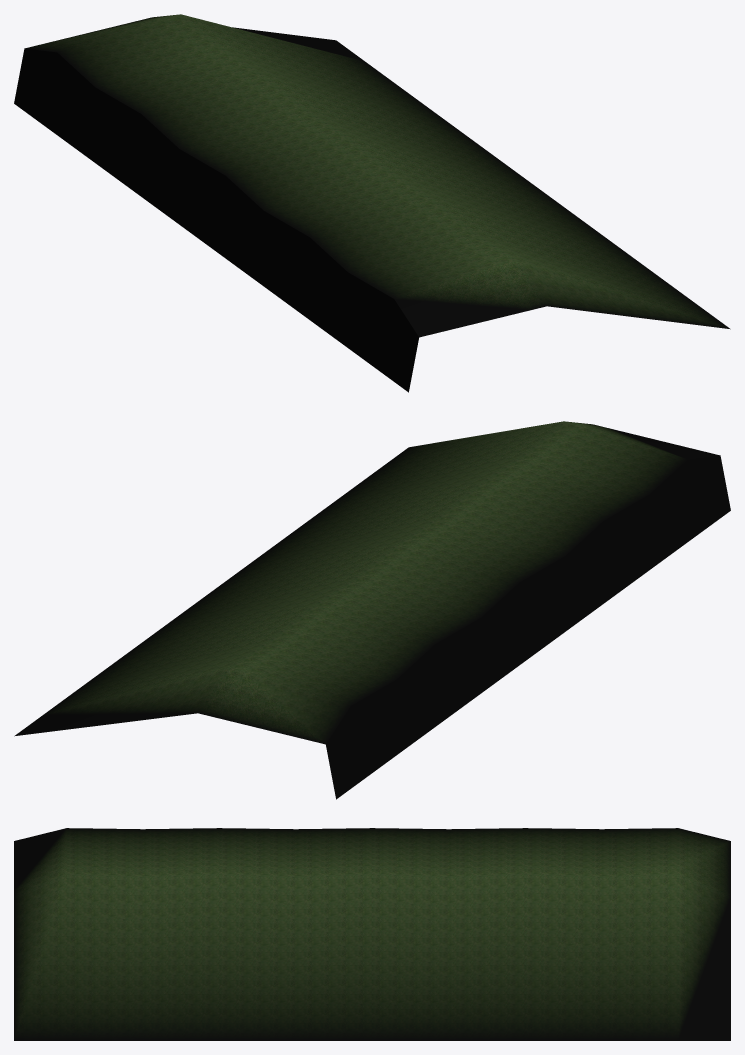
File: SIBA_DOTE_L.glb
3 views of the same model, one above another, from view 1: azimuth 30°, elevation 25°; view 2: azimuth 150°, elevation 25°; view 3: azimuth 270°, elevation 25° (orthographic). The views are drawn at different scales.
Parts seen in each view (by area): view 1: shiba_l; view 2: shiba_l; view 3: shiba_l.
Part boxes in pixels (x1,y1,x2,y2): shiba_l: [14, 14, 730, 392]; shiba_l: [14, 421, 730, 799]; shiba_l: [14, 828, 730, 1040].
Bounding box in the file's own units: 55.2 × 15.25 × 117.
1 material, 1 textured.
